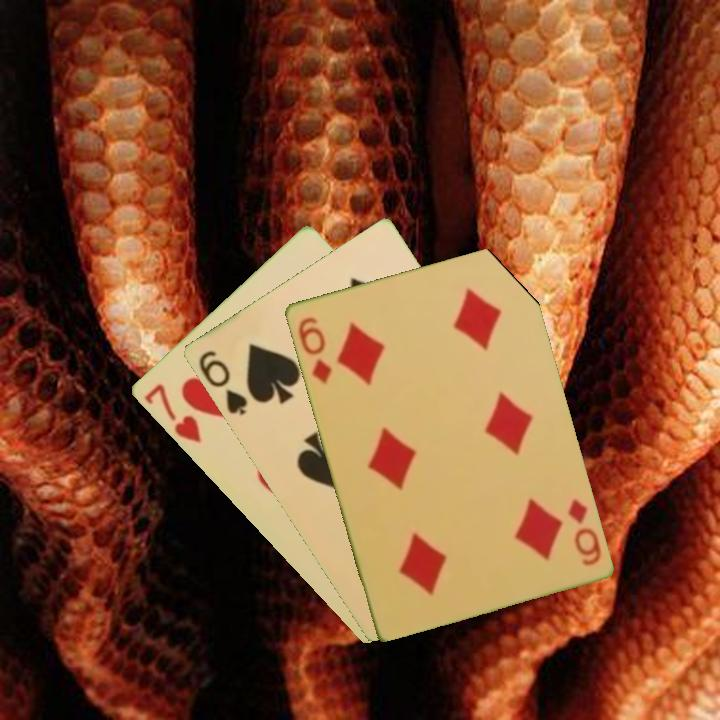6d: (563, 494, 604, 569), (294, 313, 335, 387)
6s: (194, 347, 250, 418)
7h: (140, 380, 204, 446)
